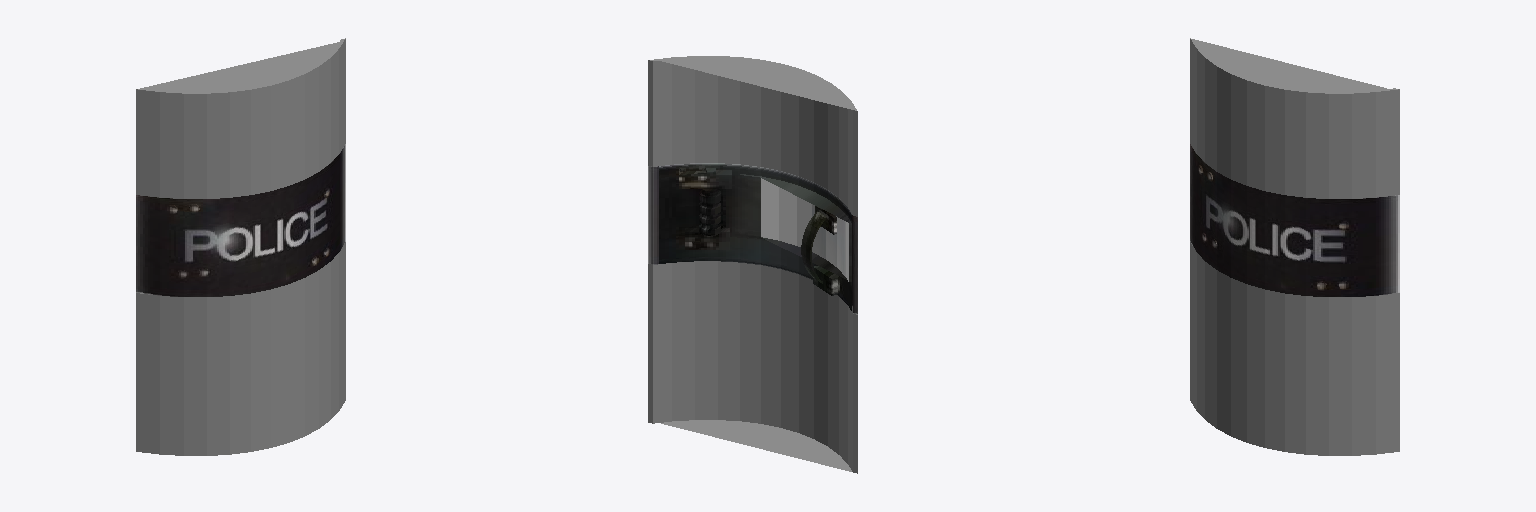
3 renders of one model, left to right at view 1: azimuth 30°, elevation 25°; view 2: azimuth 150°, elevation 25°; view 3: azimuth 330°, elevation 25°, orthographic.
Visible parts, largest first — view 1: Mesh7 Group2 POLICE_Riot_Shield Model, Mesh8 Group2 POLICE_Riot_Shield Model, Mesh4 Group3 Group2 POLICE_Riot_Shield Model; view 2: Mesh7 Group2 POLICE_Riot_Shield Model, Mesh8 Group2 POLICE_Riot_Shield Model, Mesh4 Group3 Group2 POLICE_Riot_Shield Model, Mesh5 Group3 Group2 POLICE_Riot_Shield Model, Mesh2 Group1 POLICE_Riot_Shield Model, Mesh6 Group3 Group2 POLICE_Riot_Shield Model, Mesh1 Group1 POLICE_Riot_Shield Model; view 3: Mesh7 Group2 POLICE_Riot_Shield Model, Mesh8 Group2 POLICE_Riot_Shield Model, Mesh4 Group3 Group2 POLICE_Riot_Shield Model.
Boxes of the visible parts, <box> form: Mesh7 Group2 POLICE_Riot_Shield Model: <box>136,242,345,455</box>; Mesh8 Group2 POLICE_Riot_Shield Model: <box>136,38,345,198</box>; Mesh4 Group3 Group2 POLICE_Riot_Shield Model: <box>136,144,345,296</box>; Mesh7 Group2 POLICE_Riot_Shield Model: <box>648,261,857,473</box>; Mesh8 Group2 POLICE_Riot_Shield Model: <box>648,56,857,216</box>; Mesh4 Group3 Group2 POLICE_Riot_Shield Model: <box>648,163,857,314</box>; Mesh5 Group3 Group2 POLICE_Riot_Shield Model: <box>679,168,731,188</box>; Mesh2 Group1 POLICE_Riot_Shield Model: <box>699,189,720,235</box>; Mesh6 Group3 Group2 POLICE_Riot_Shield Model: <box>685,228,729,249</box>; Mesh1 Group1 POLICE_Riot_Shield Model: <box>801,211,825,283</box>; Mesh7 Group2 POLICE_Riot_Shield Model: <box>1190,242,1399,455</box>; Mesh8 Group2 POLICE_Riot_Shield Model: <box>1190,38,1399,198</box>; Mesh4 Group3 Group2 POLICE_Riot_Shield Model: <box>1190,144,1399,296</box>.
Bounding box in the file's own units: 6111 × 10116 × 1511.
Materials: 2 (1 with a texture image).